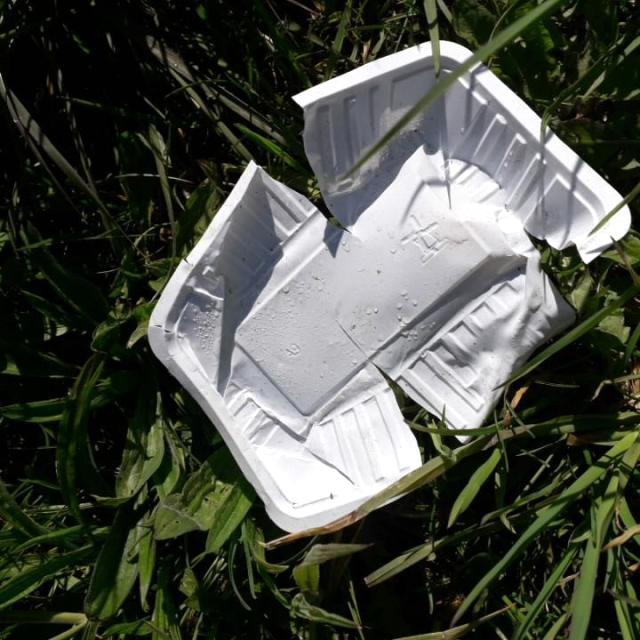Metal: (145, 35, 633, 538)
